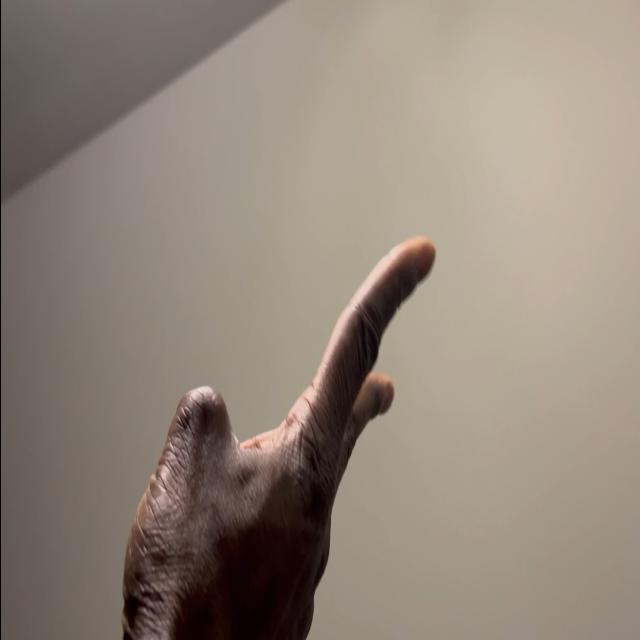Scissors: (120, 235, 437, 640)
